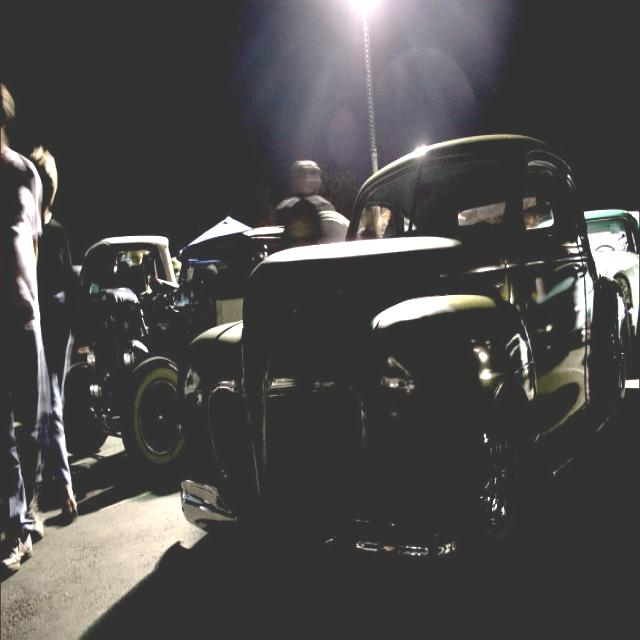Car: (169, 139, 640, 558)
